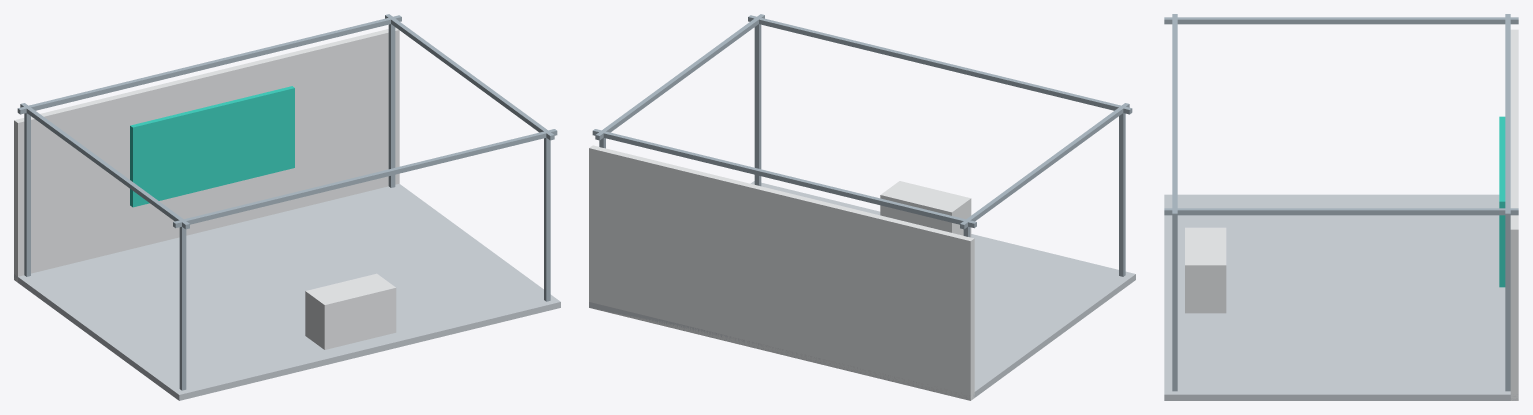
The picture shows the model from 3 angles, left to right: view 1: azimuth 30°, elevation 25°; view 2: azimuth 150°, elevation 25°; view 3: azimuth 270°, elevation 25°; orthographic projection. The views are drawn at different scales.
Parts seen in each view (by area): view 1: Exhibition Booth Concept; view 2: Exhibition Booth Concept; view 3: Exhibition Booth Concept.
Boxes of the visible parts, bbox=[...] form: Exhibition Booth Concept: bbox=[14, 14, 560, 400]; Exhibition Booth Concept: bbox=[589, 14, 1135, 400]; Exhibition Booth Concept: bbox=[1164, 14, 1518, 400].
Bounding box in the file's own units: 8 × 3.49 × 6.
